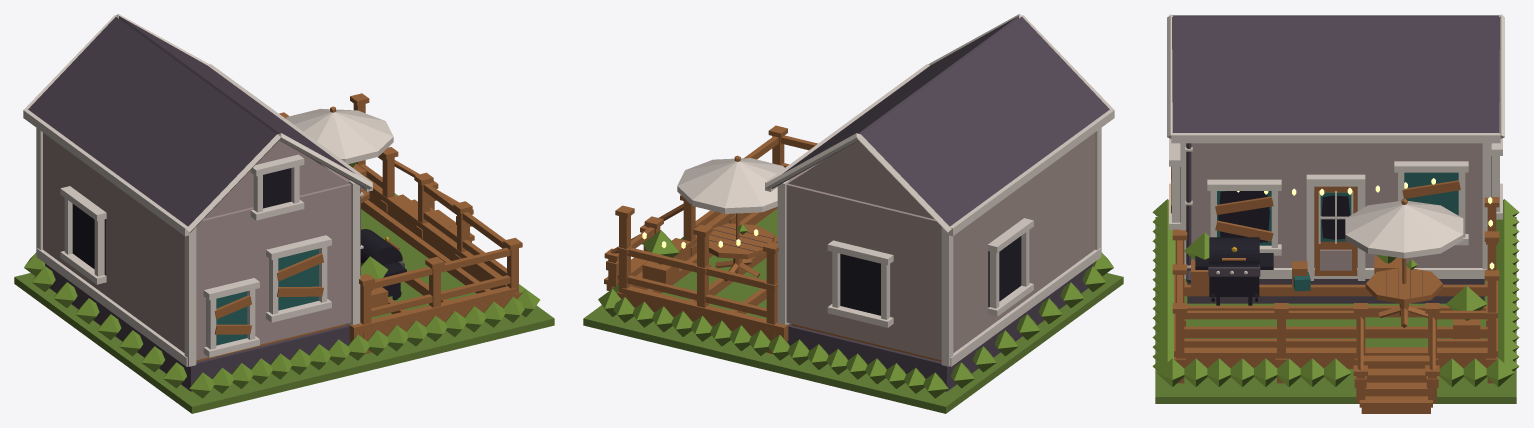
3 renders of one model, left to right at view 1: azimuth 30°, elevation 25°; view 2: azimuth 150°, elevation 25°; view 3: azimuth 270°, elevation 25°, orthographic.
Parts seen in each view (by area): view 1: root_pal_picketWhite, roof_pal_picketWhite, body_pal_picketWhite, door_grill_lid_pal_picketWhite; view 2: root_pal_picketWhite, roof_pal_picketWhite, body_pal_picketWhite; view 3: root_pal_picketWhite, roof_pal_picketWhite, body_pal_picketWhite, door_back_pal_picketWhite, door_grill_lid_pal_picketWhite.
Part boxes in pixels (<box>): root_pal_picketWhite: <box>14,93,554,413</box>; roof_pal_picketWhite: <box>23,14,372,236</box>; body_pal_picketWhite: <box>36,108,393,366</box>; door_grill_lid_pal_picketWhite: <box>361,229,402,265</box>; root_pal_picketWhite: <box>583,125,1123,413</box>; roof_pal_picketWhite: <box>765,14,1114,236</box>; body_pal_picketWhite: <box>677,128,1101,366</box>; root_pal_picketWhite: <box>1152,143,1519,413</box>; roof_pal_picketWhite: <box>1167,14,1504,143</box>; body_pal_picketWhite: <box>1169,138,1502,280</box>; door_back_pal_picketWhite: <box>1314,186,1357,275</box>; door_grill_lid_pal_picketWhite: <box>1209,237,1259,264</box>.
Bounding box in the file's own units: 9.23 × 5.72 × 7.41.
